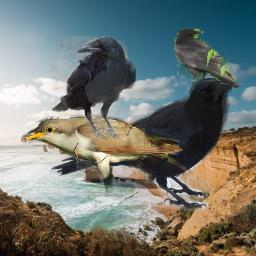Crow: (51, 78, 232, 211), (52, 36, 136, 139), (174, 28, 240, 88)
Cuckoo: (21, 115, 186, 193)
